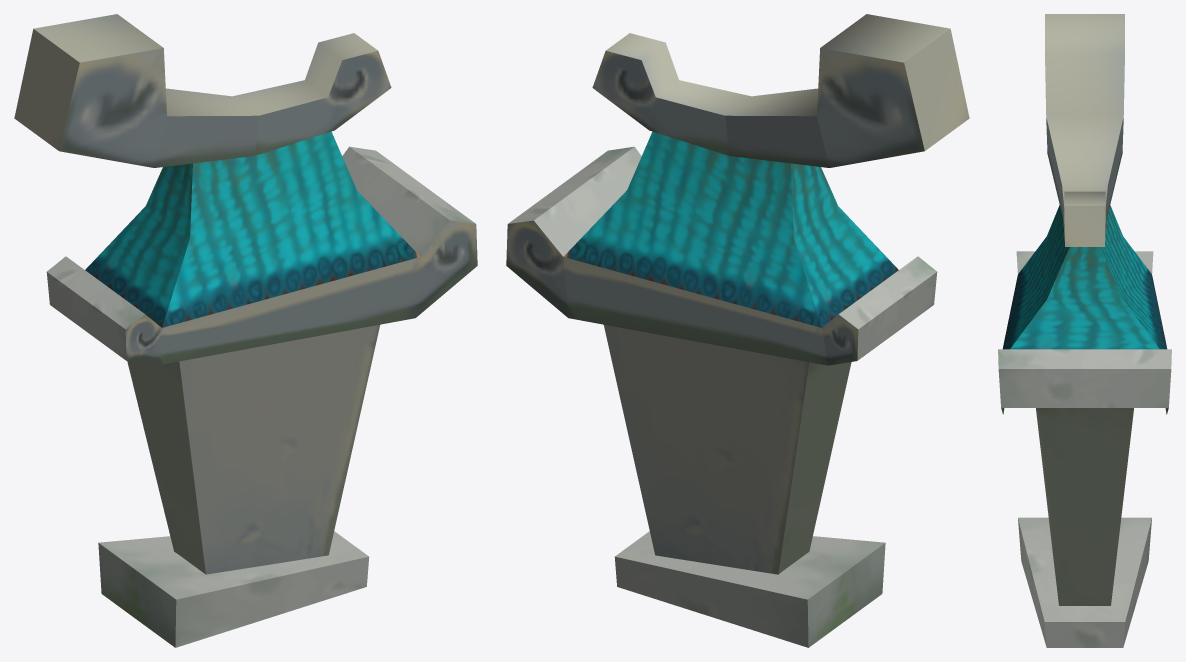
The model's file is bigmap_stele01.FBX.
3 views of the same model, side by side, from view 1: azimuth 30°, elevation 25°; view 2: azimuth 150°, elevation 25°; view 3: azimuth 270°, elevation 25° (orthographic). The views are drawn at different scales.
Parts seen in each view (by area): view 1: bigmap_stele01; view 2: bigmap_stele01; view 3: bigmap_stele01.
Part boxes in pixels (x1,y1,x2,y2): bigmap_stele01: (14, 14, 477, 647); bigmap_stele01: (506, 14, 969, 647); bigmap_stele01: (998, 14, 1171, 647).
Bounding box in the file's own units: 2.42 × 1.08 × 3.51.
